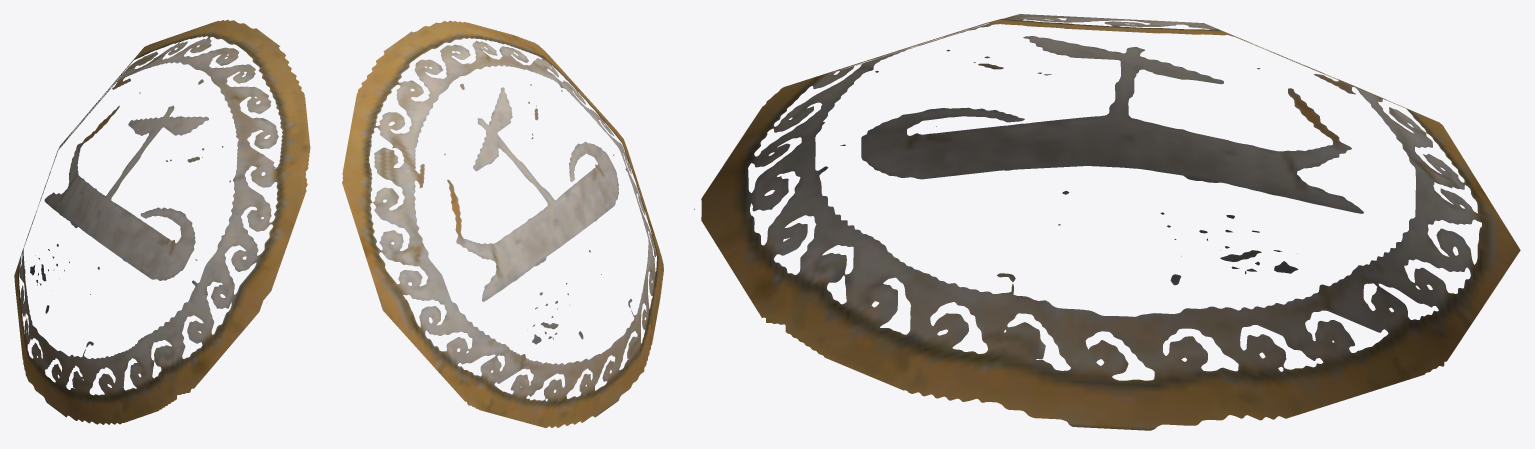
The model's file is kyrenia_shield.dae.
3 renders of one model, left to right at view 1: azimuth 30°, elevation 25°; view 2: azimuth 150°, elevation 25°; view 3: azimuth 270°, elevation 25°, orthographic. The views are drawn at different scales.
Parts seen in each view (by area): view 1: Object01; view 2: Object01; view 3: Object01.
Boxes of the visible parts, x1,y1,x2,y2 form: Object01: (14, 19, 310, 424); Object01: (342, 20, 663, 427); Object01: (694, 14, 1520, 430).
Bounding box in the file's own units: 0.9449 × 1.35 × 1.7.
